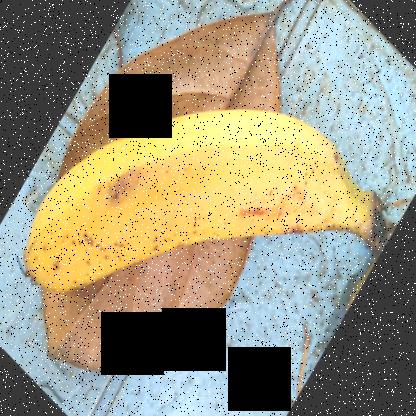ripe: (9, 100, 383, 298)
